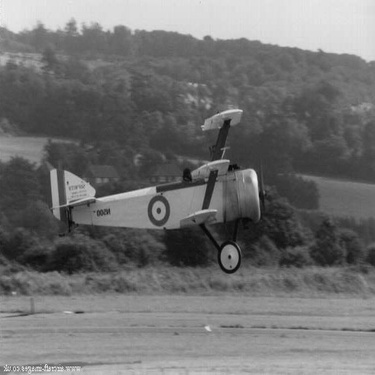airplane: (33, 98, 273, 276)
